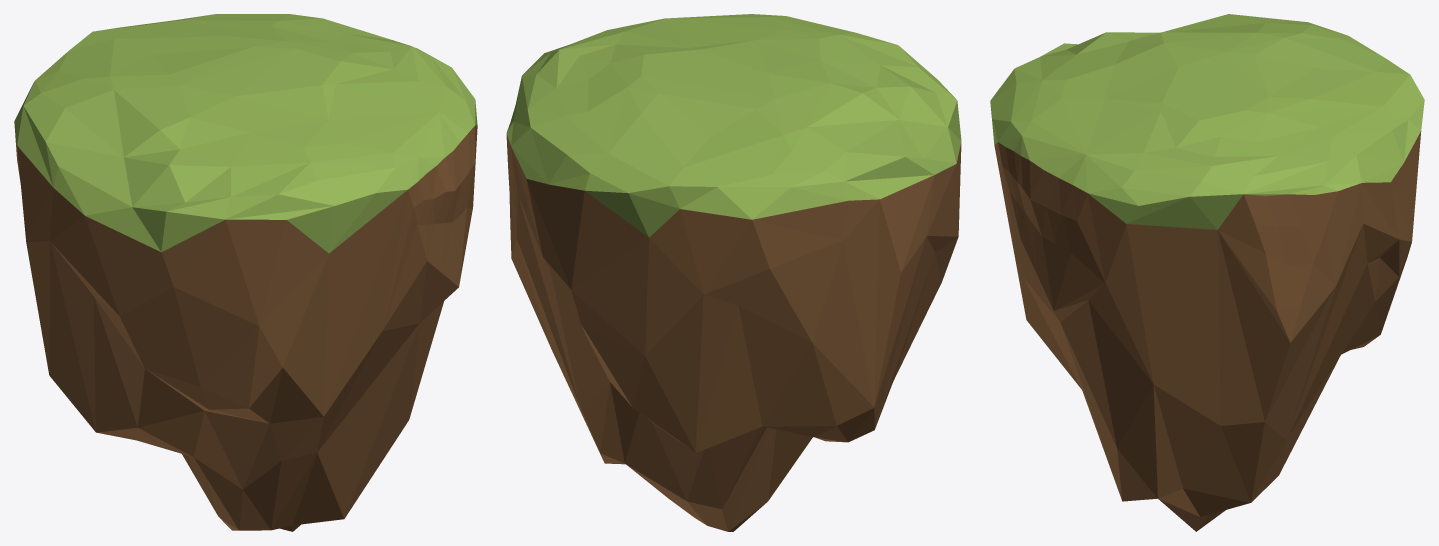
Rendered from ballonEiland.dae.
3 views of the same model, side by side, from view 1: azimuth 30°, elevation 25°; view 2: azimuth 150°, elevation 25°; view 3: azimuth 270°, elevation 25° (orthographic). The views are drawn at different scales.
Visible parts, largest first — view 1: Icosphere_004; view 2: Icosphere_004; view 3: Icosphere_004.
Part boxes in pixels (x1,y1,x2,y2): Icosphere_004: (14,14,477,531); Icosphere_004: (506,14,961,531); Icosphere_004: (990,14,1424,531).
Bounding box in the file's own units: 10.95 × 10.94 × 12.09.
